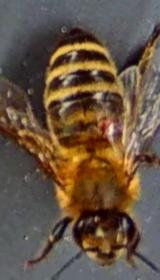varroa_mite: (82, 111, 126, 144)
